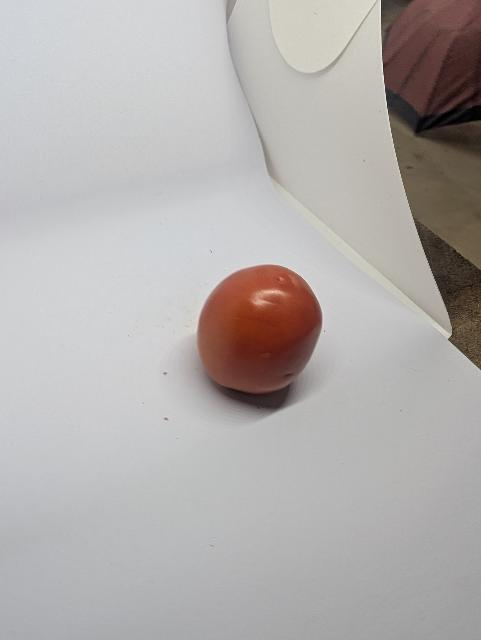red: (194, 262, 325, 396)
